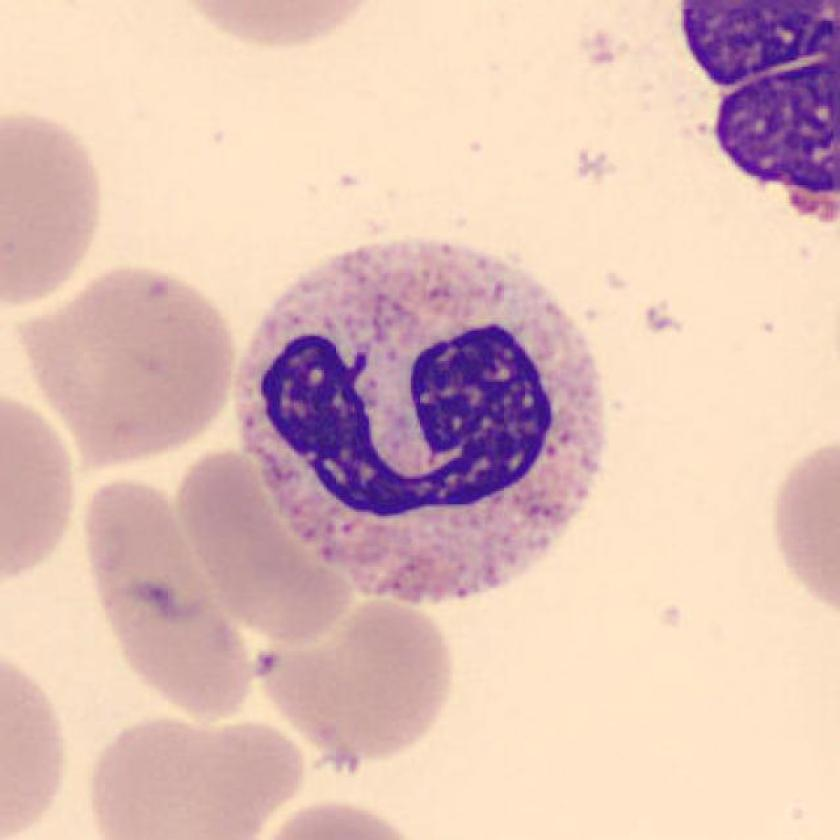neutrophil: (235, 240, 602, 603)
